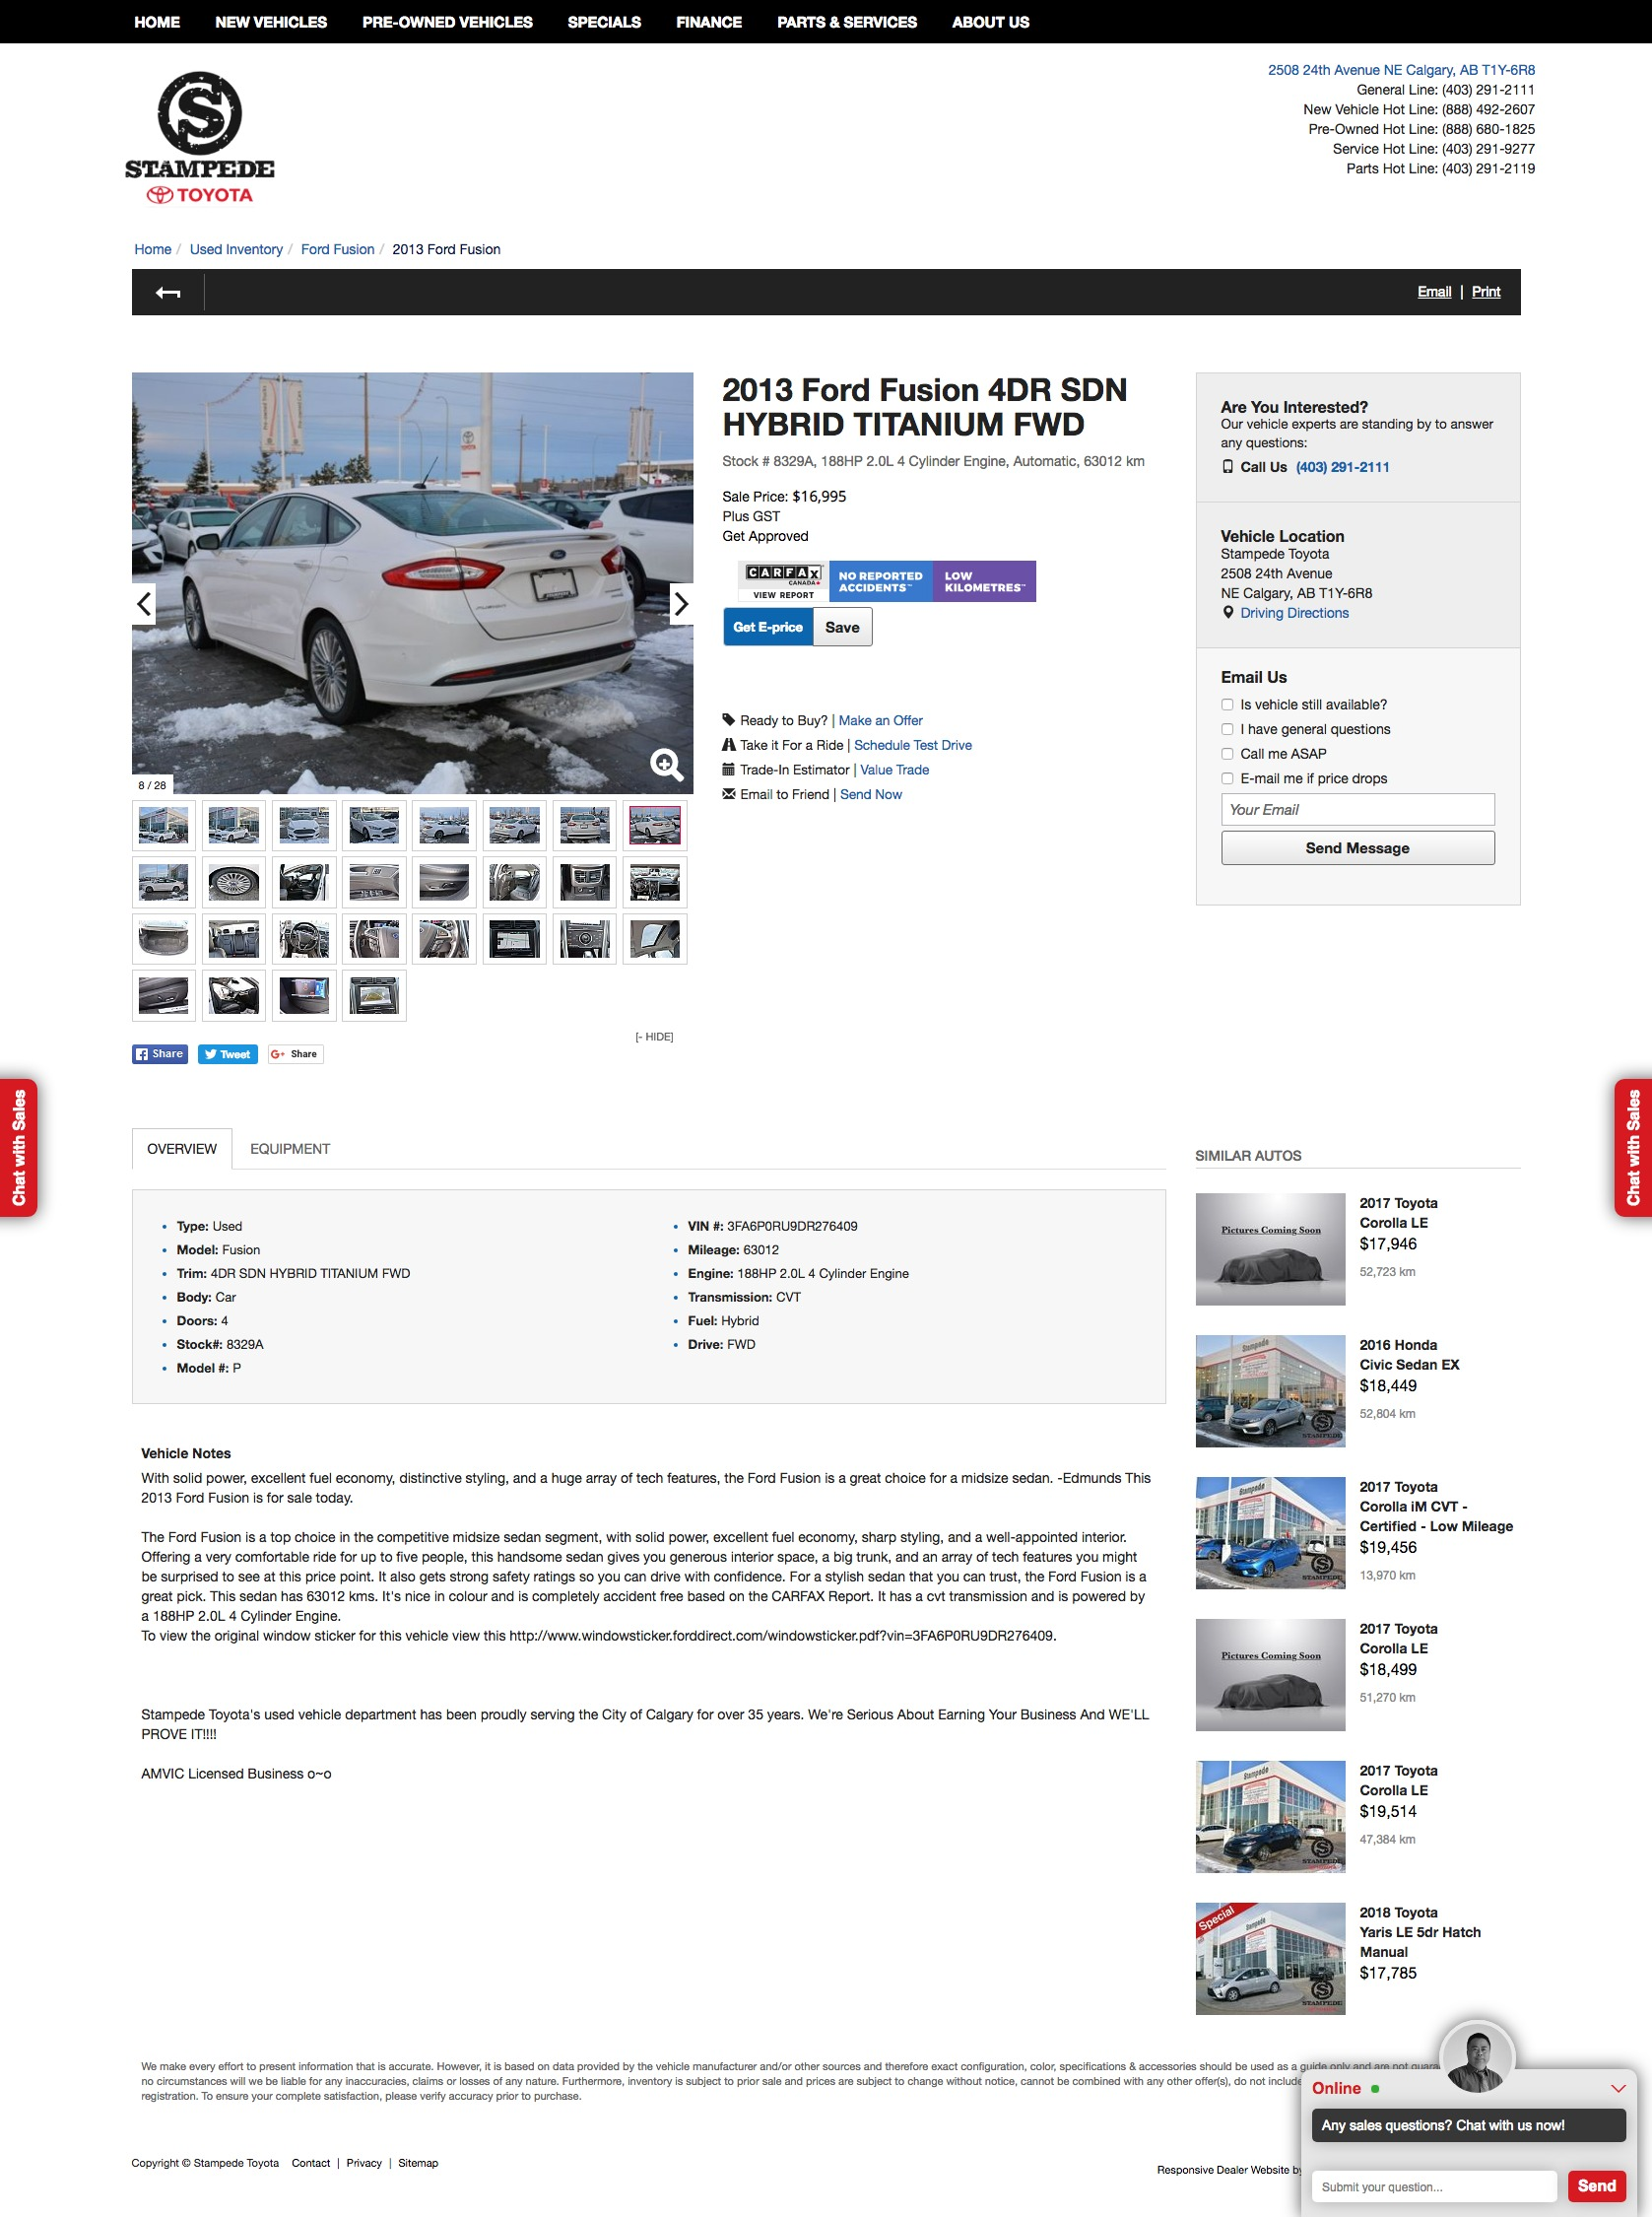car: (675, 592, 689, 618)
